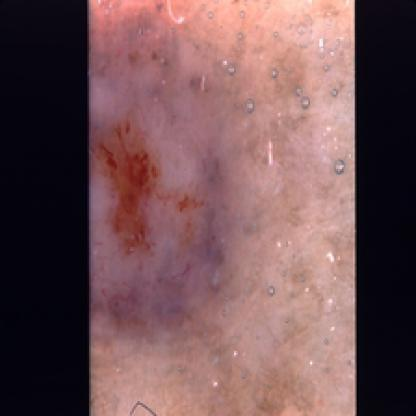malignant: (91, 47, 282, 336)
